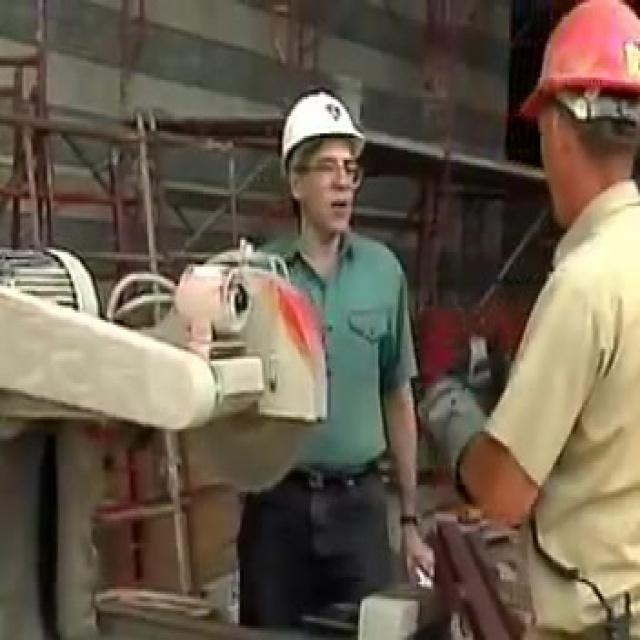helmet: (516, 1, 638, 163), (279, 118, 366, 234)
